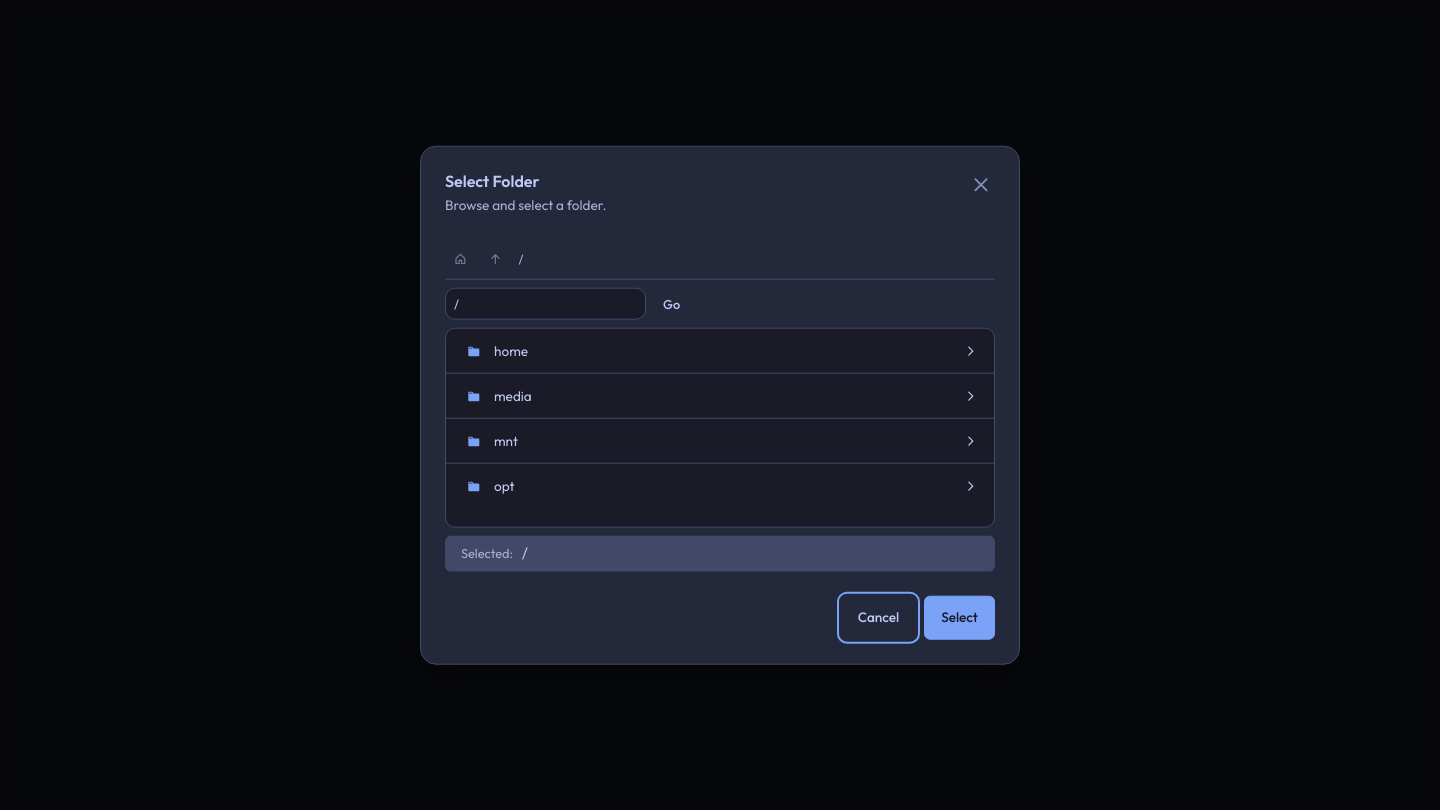
Scenario: FileBrowser › highlights folder on single click without navigating or committing
The image size is (1440, 810).
Expected: the text "home" is shown, [494, 342, 528, 360]
What coordinates should you click on to do the following:
click the button "home"
I would click on:
 (511, 351)
Its box is [446, 329, 955, 373].
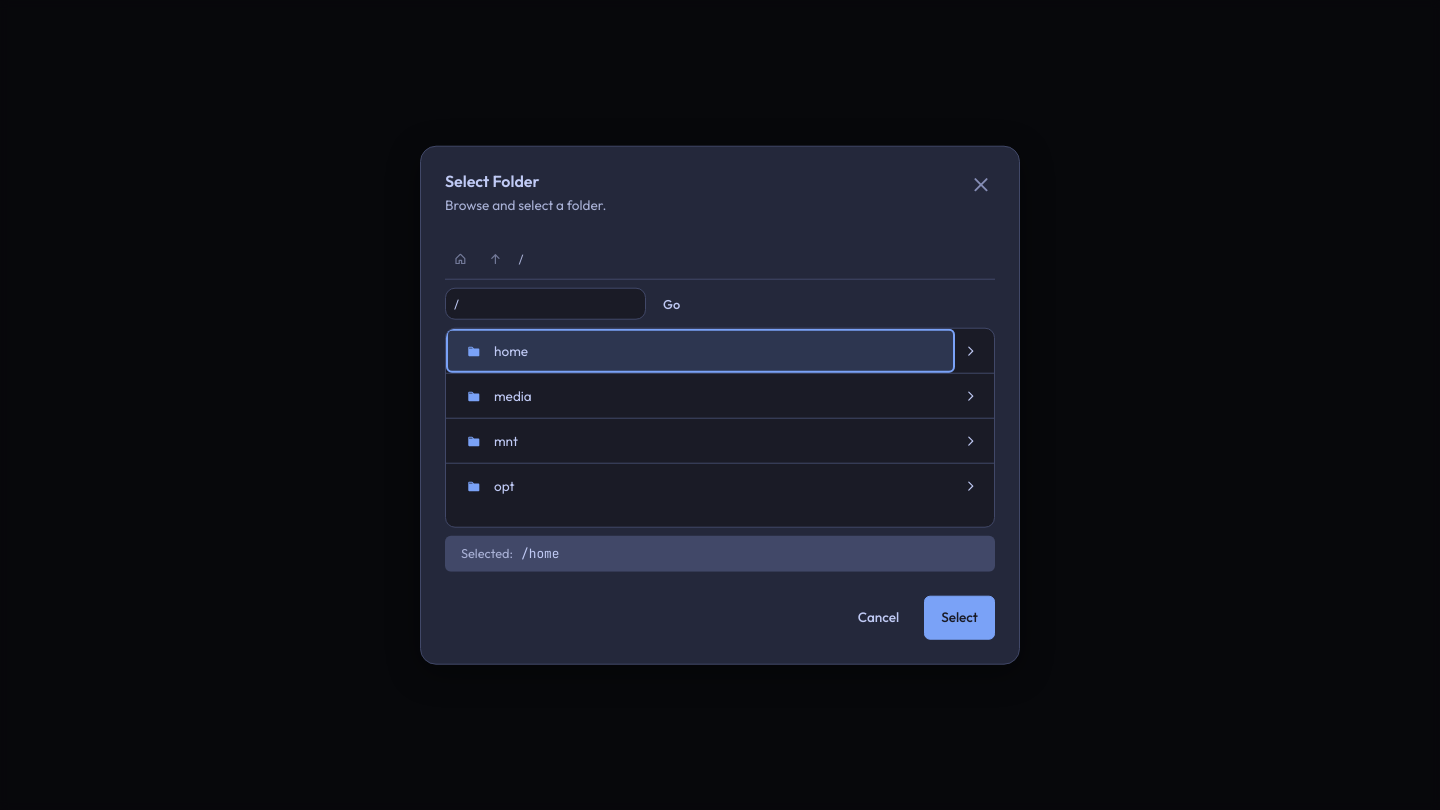
Expected: the text "media" is shown, [494, 387, 532, 405]
Expected: the element with class "file-browser__selection-path" reads "/home", [521, 545, 559, 562]
